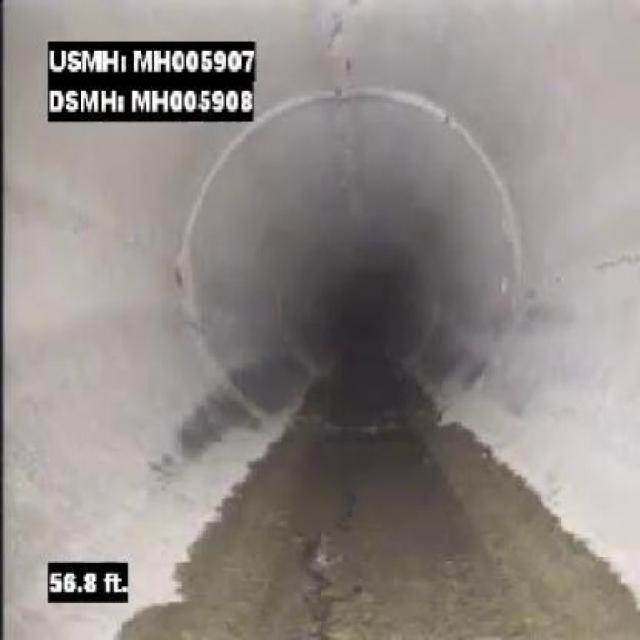Crack: (274, 486, 380, 628), (317, 6, 363, 177), (548, 254, 634, 283)
